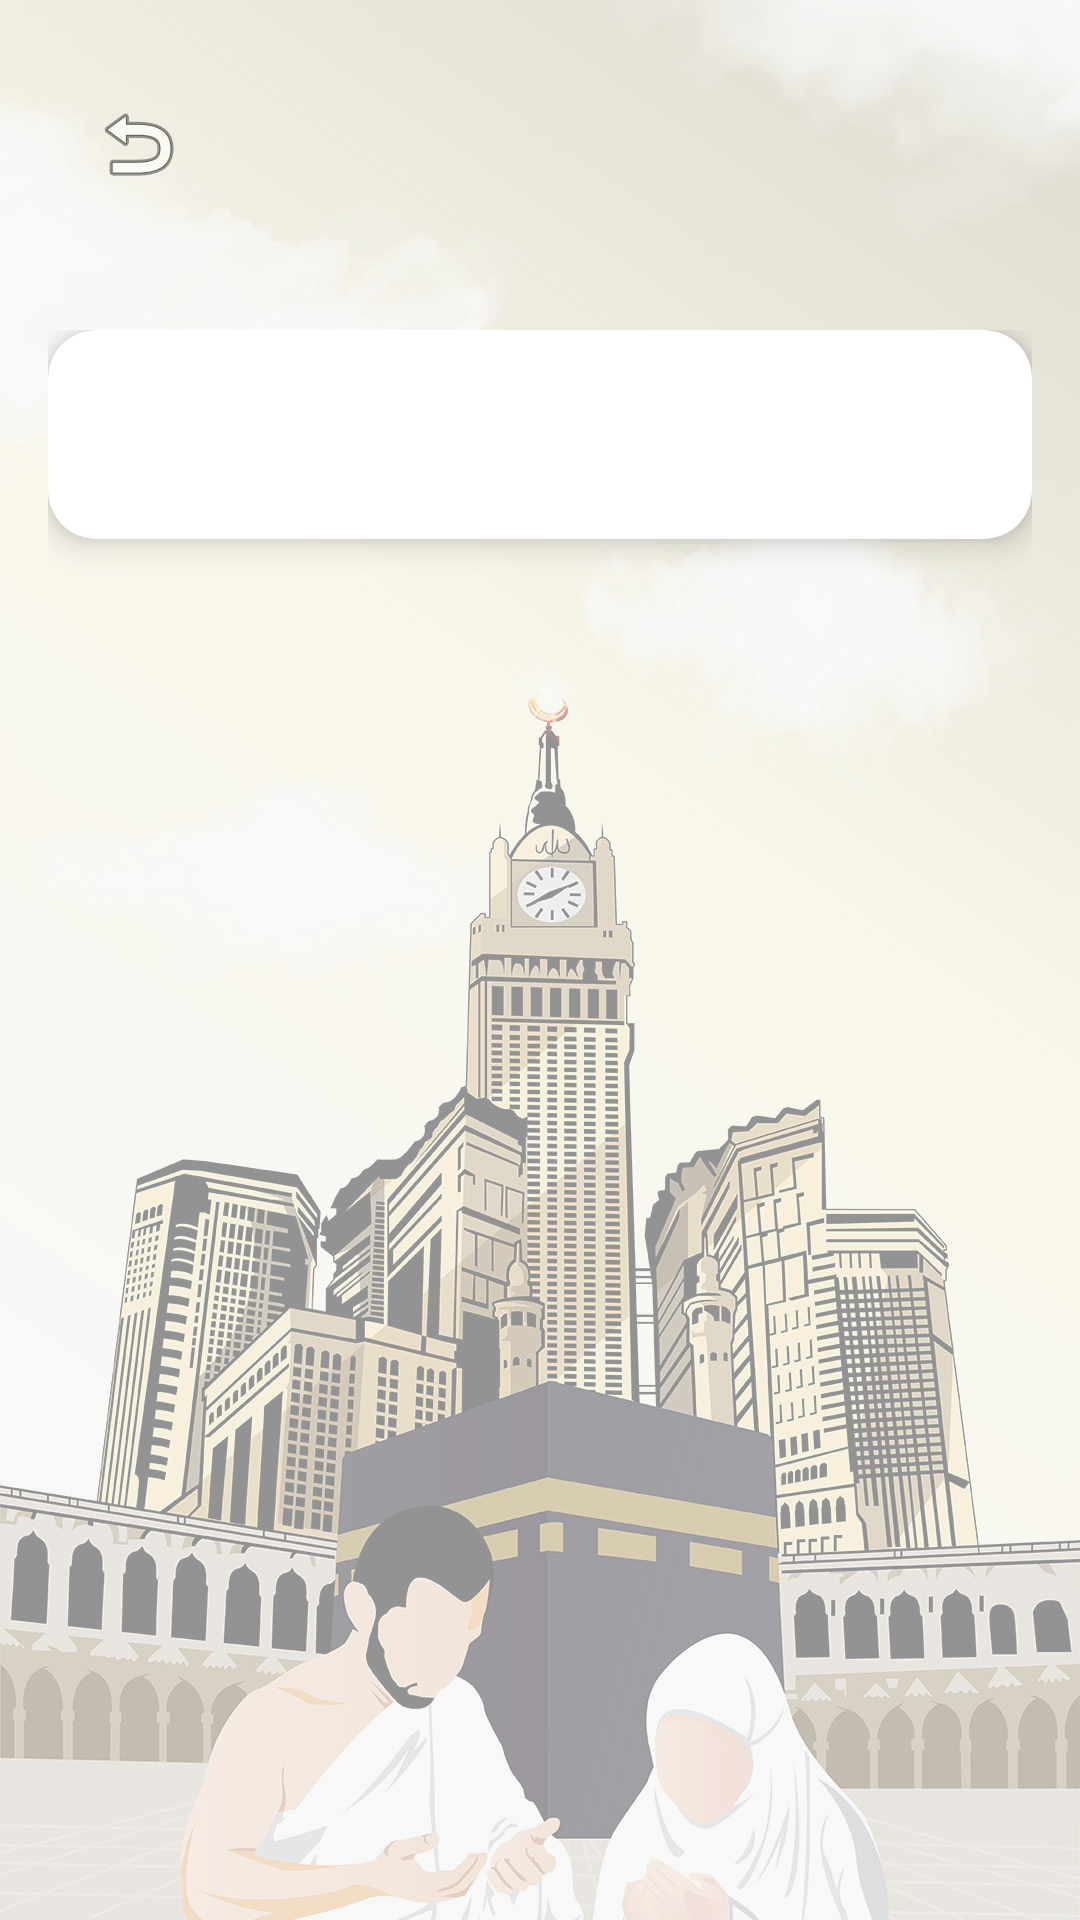

Icons on this 1080 × 1920 Android screen, each with the point to tap as point (x, y):
Kembali: point (139, 144)
